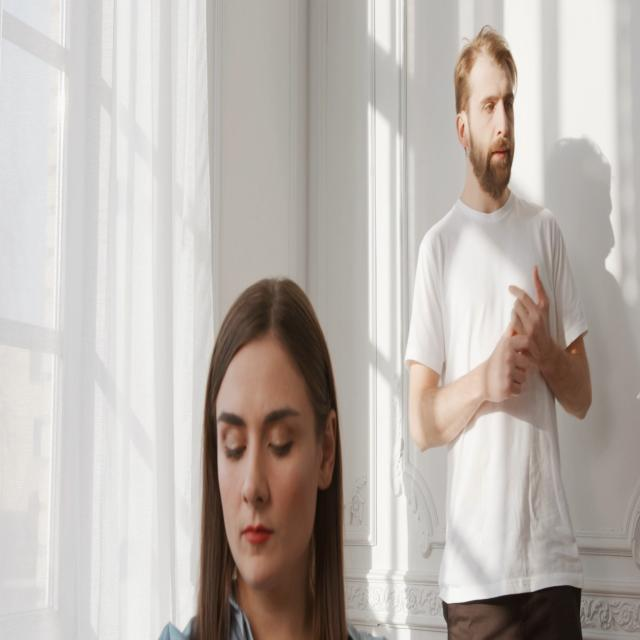boy: (456, 48, 515, 191)
sad: (210, 353, 332, 596)
